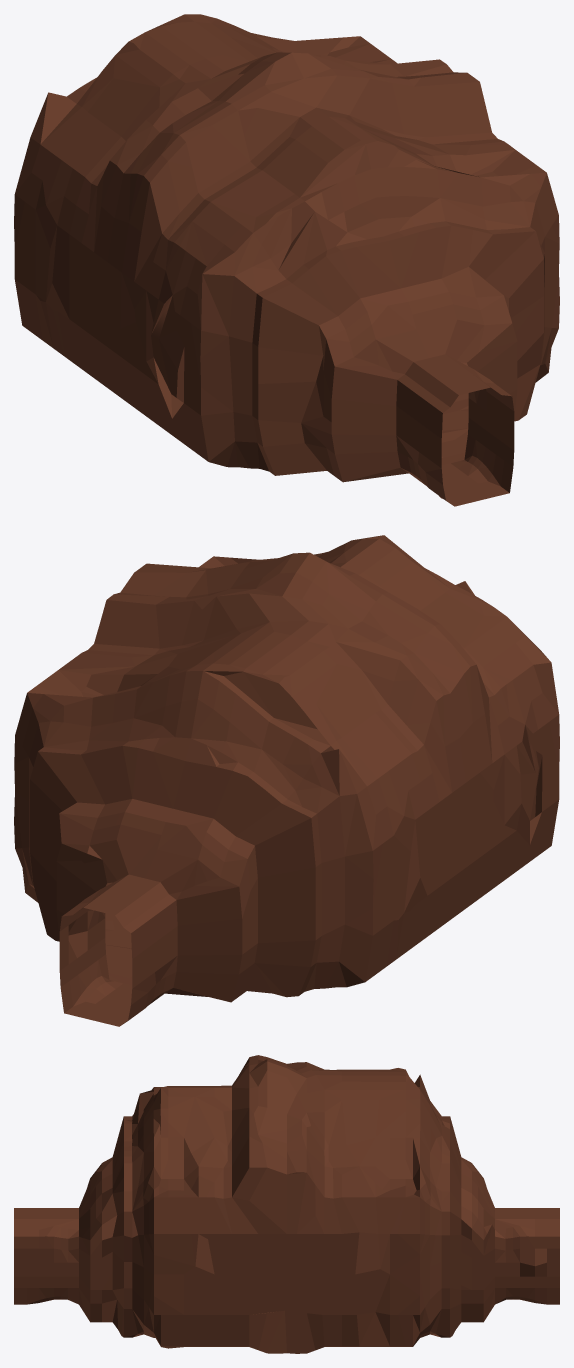
Rendered from mars.glb.
The picture shows the model from 3 angles, top to bottom: view 1: azimuth 30°, elevation 25°; view 2: azimuth 150°, elevation 25°; view 3: azimuth 270°, elevation 25°; orthographic projection. The views are drawn at different scales.
Parts seen in each view (by area): view 1: cave_base; view 2: cave_base; view 3: cave_base.
Boxes of the visible parts, x1,y1,x2,y2 form: cave_base: (14, 14, 559, 506); cave_base: (14, 535, 559, 1026); cave_base: (14, 1055, 559, 1353).
Size of the model in its own units: 89.73 by 73.45 by 156.
Materials: 1 (1 with a texture image).
